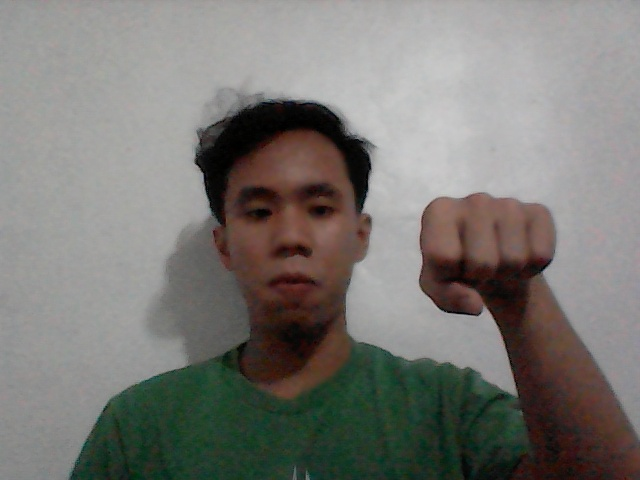Yes: (391, 172, 585, 336)
